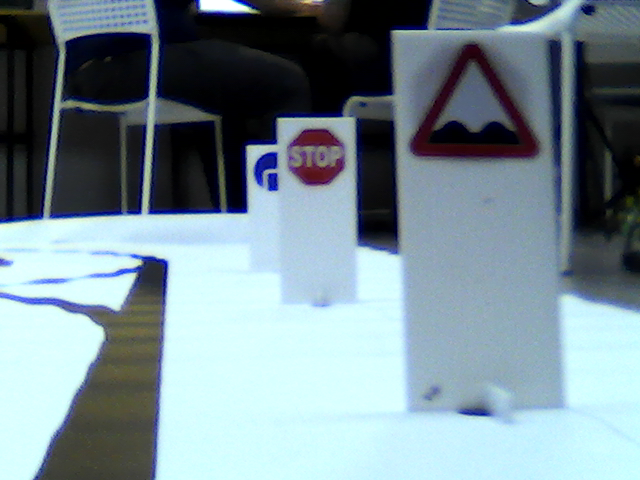Nerov: (407, 40, 541, 163)
Stop: (285, 122, 346, 188)
